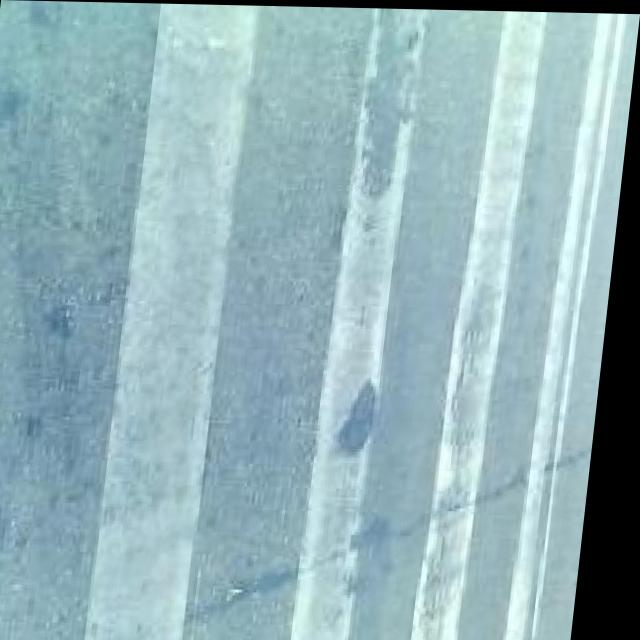zebra: (0, 5, 635, 607)
